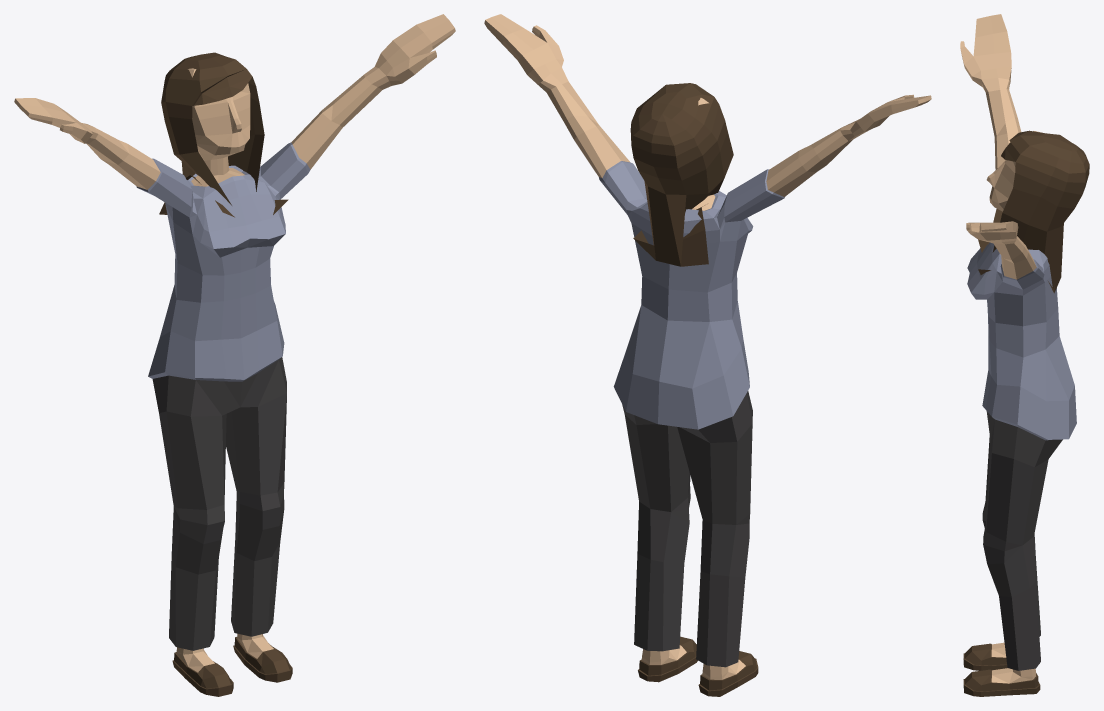
Rendered from Female_Crowd_VArms.glb.
The picture shows the model from 3 angles, left to right: view 1: azimuth 30°, elevation 25°; view 2: azimuth 150°, elevation 25°; view 3: azimuth 270°, elevation 25°; orthographic projection. The views are drawn at different scales.
Visible parts, largest first — view 1: Female_Crowd_VArms; view 2: Female_Crowd_VArms; view 3: Female_Crowd_VArms.
Boxes of the visible parts, x1,y1,x2,y2 form: Female_Crowd_VArms: (14, 14, 455, 696); Female_Crowd_VArms: (484, 14, 931, 696); Female_Crowd_VArms: (960, 14, 1089, 696).
Size of the model in its own units: 1.25 by 1.73 by 0.3577.
